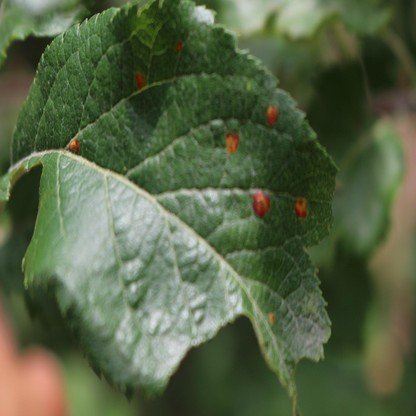rust: (253, 190, 269, 219), (226, 130, 239, 155), (294, 198, 307, 220), (265, 106, 277, 124), (134, 70, 145, 88), (68, 138, 79, 150), (174, 39, 182, 51), (269, 312, 273, 323)
